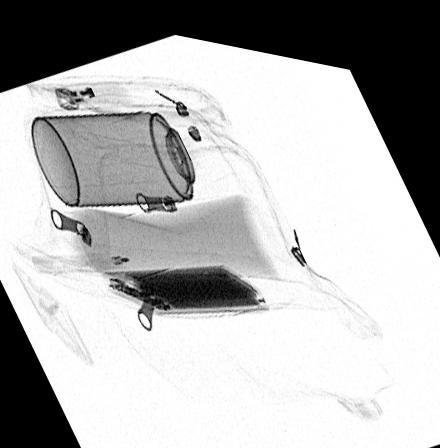Lighter: (54, 75, 133, 108)
Powerbank: (105, 254, 269, 309)
Sprayer: (29, 104, 228, 204)
